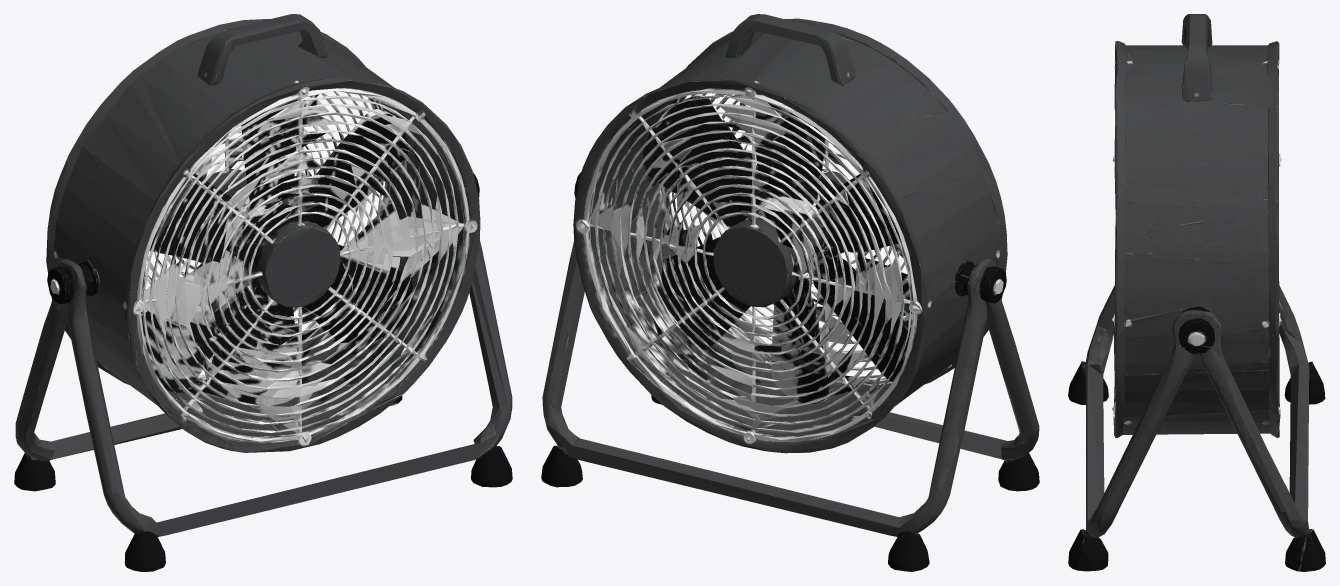
The model's file is hf-drum-fan.glb.
3 views of the same model, side by side, from view 1: azimuth 30°, elevation 25°; view 2: azimuth 150°, elevation 25°; view 3: azimuth 270°, elevation 25° (orthographic).
Visible parts, largest first — view 1: Mesh_0; view 2: Mesh_0; view 3: Mesh_0.
Part boxes in pixels (x1,y1,x2,y2): Mesh_0: [14, 14, 512, 571]; Mesh_0: [541, 14, 1039, 571]; Mesh_0: [1068, 14, 1325, 571].
Size of the model in its own units: 1.83 by 1.9 by 0.9883.
Materials: 1 (1 with a texture image).
